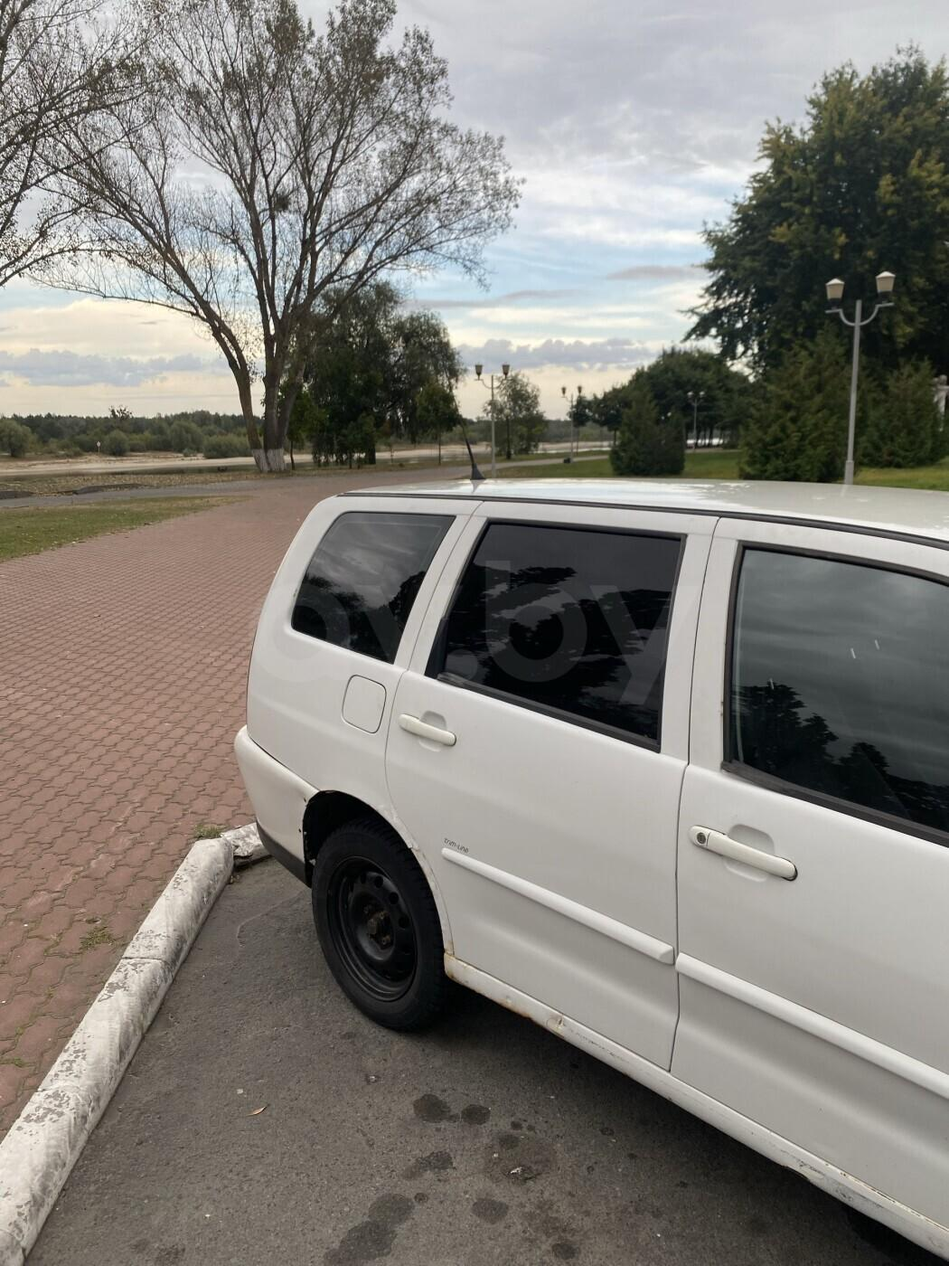Polo_1994-2002: (236, 449, 948, 1266)
